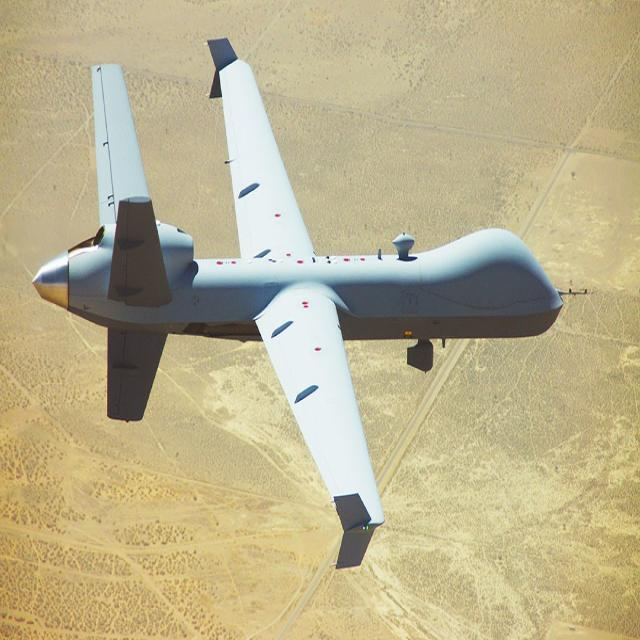MQ9: (2, 13, 600, 603)
